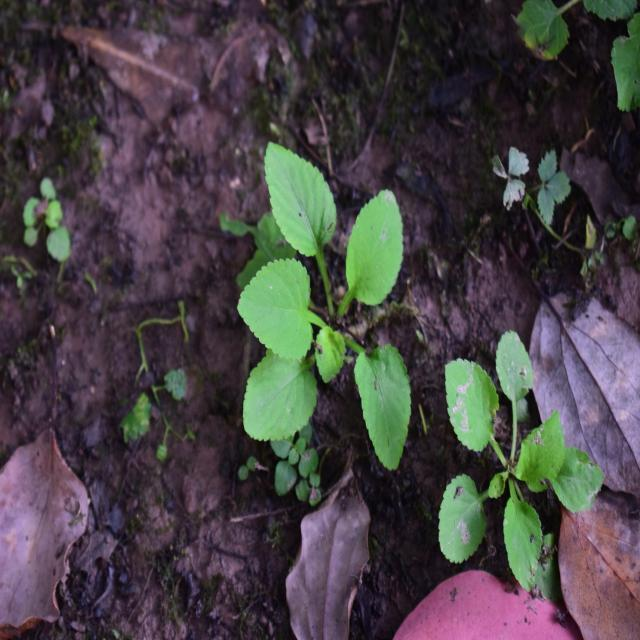Viola: (219, 121, 419, 486), (439, 324, 596, 586)
